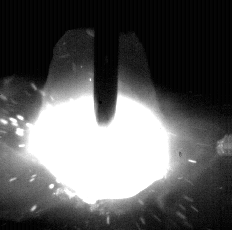arame: (95, 0, 118, 126)
poca: (25, 0, 170, 230)
